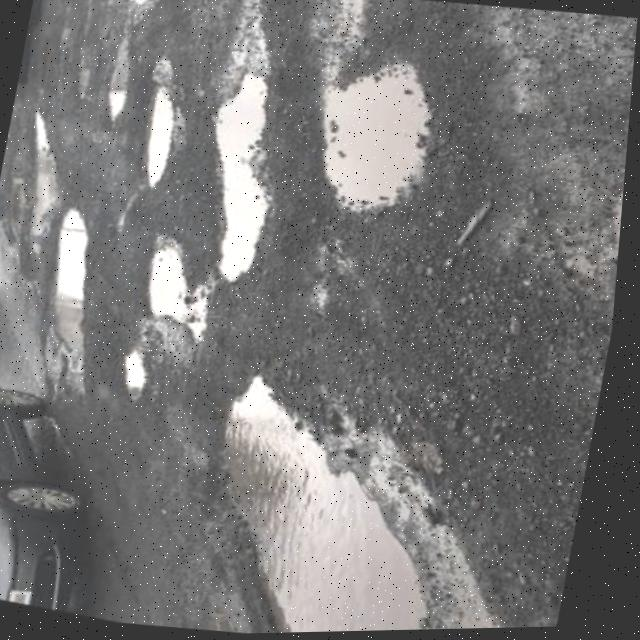Pothole: (147, 362, 577, 637), (146, 32, 338, 307), (268, 35, 460, 245), (0, 187, 163, 387), (4, 87, 112, 266), (114, 51, 194, 221), (123, 227, 235, 343), (80, 9, 159, 147), (567, 130, 631, 290), (101, 300, 179, 415), (109, 0, 164, 18)
